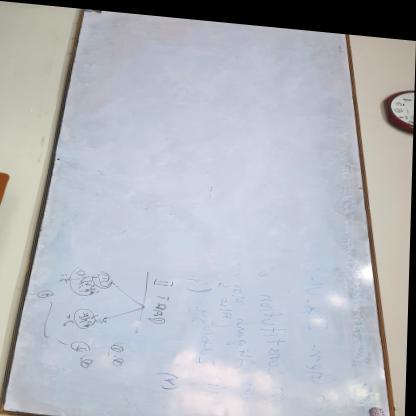Handwritten text: (291, 262, 347, 381), (215, 258, 265, 374), (250, 260, 294, 376), (177, 296, 225, 369), (147, 287, 180, 330)
Whiteboard: (0, 6, 400, 416)
